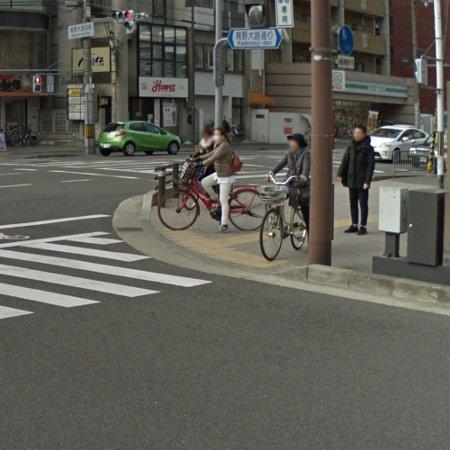crosswalks: (0, 228, 213, 321)
